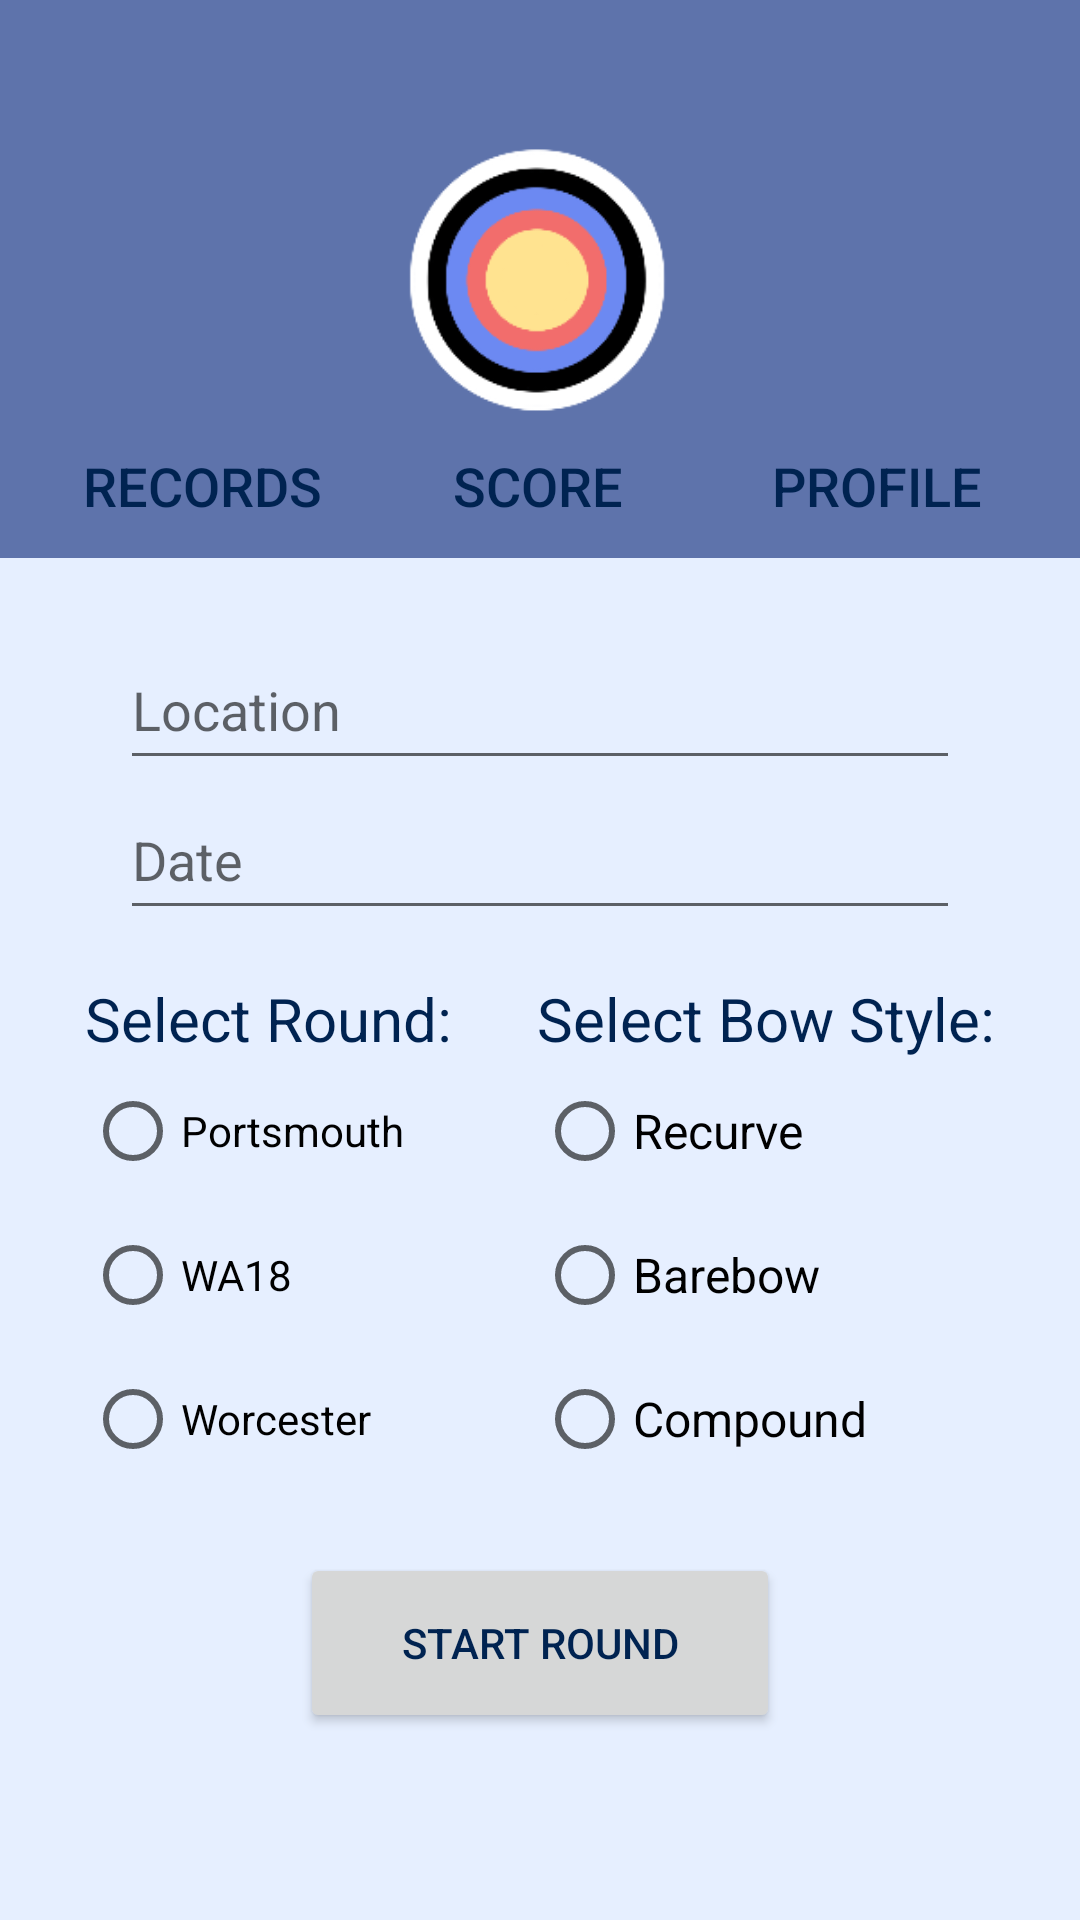

Screen size 1080px x 1920px. Icon name, then its box in pixels as (x1, y1, x2, y2):
target: (410, 149, 665, 411)
